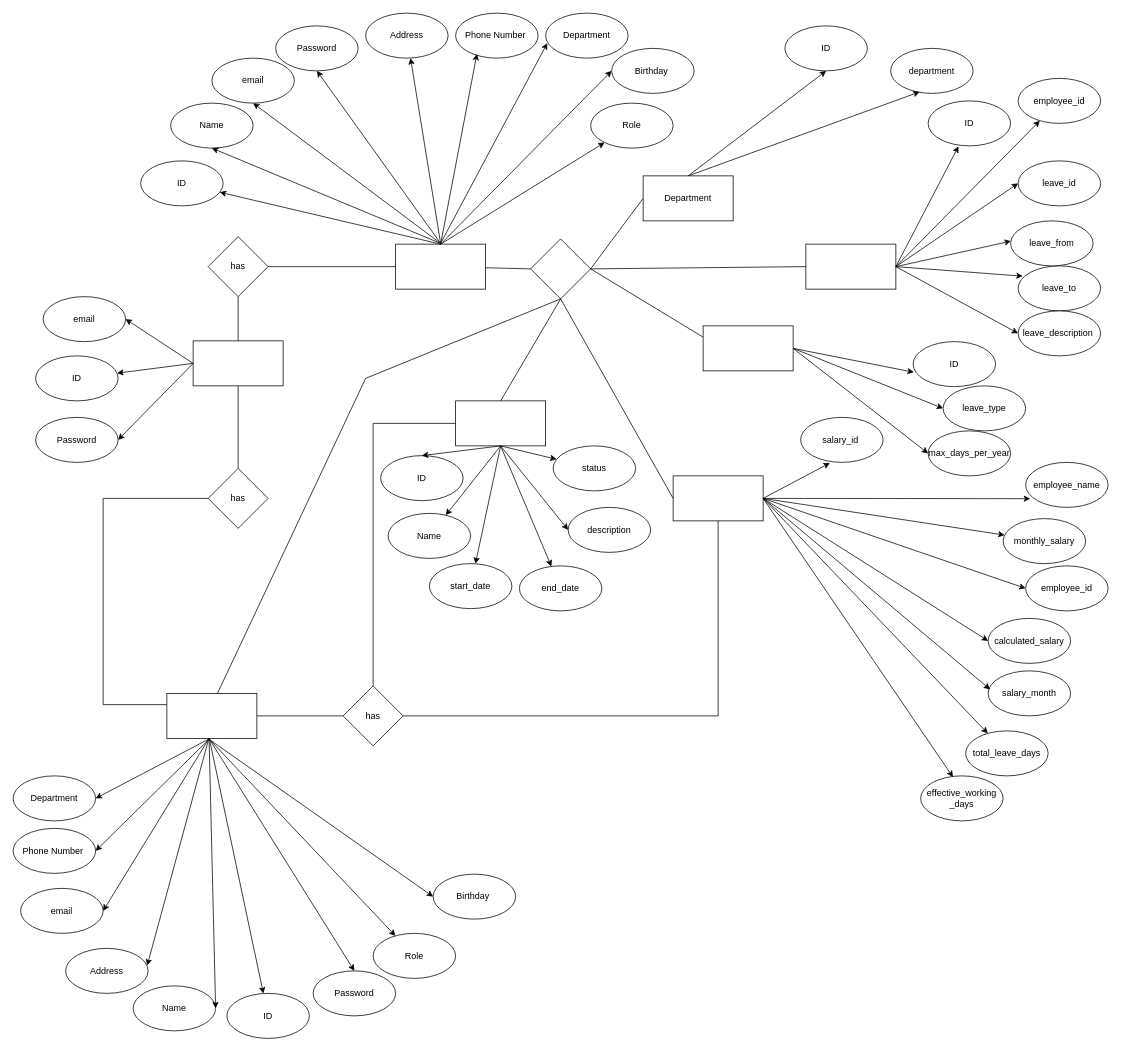
The diagram is 1121 pixels wide and 1052 high, and some of its shapes have lost their labels. Here are the shapes that lost their labels. From the top down, the centre of each, then its label:
At (440,266): "Admin".
At (560,268): "Manage".
At (850,266): "Leave".
At (237,363): "login".
At (747,348): "Leave Type".
At (500,423): "projects".
At (717,498): "Salary".
At (211,715): "Employee".
